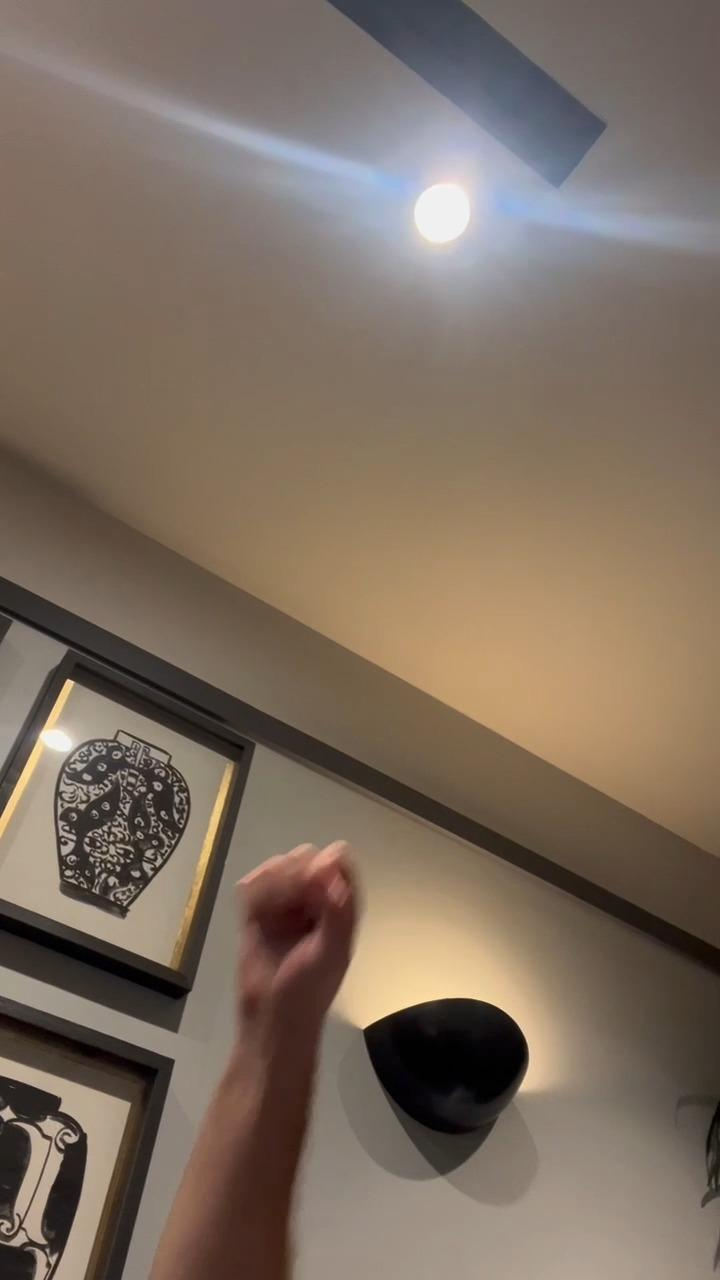Rock: (234, 838, 365, 1011)
